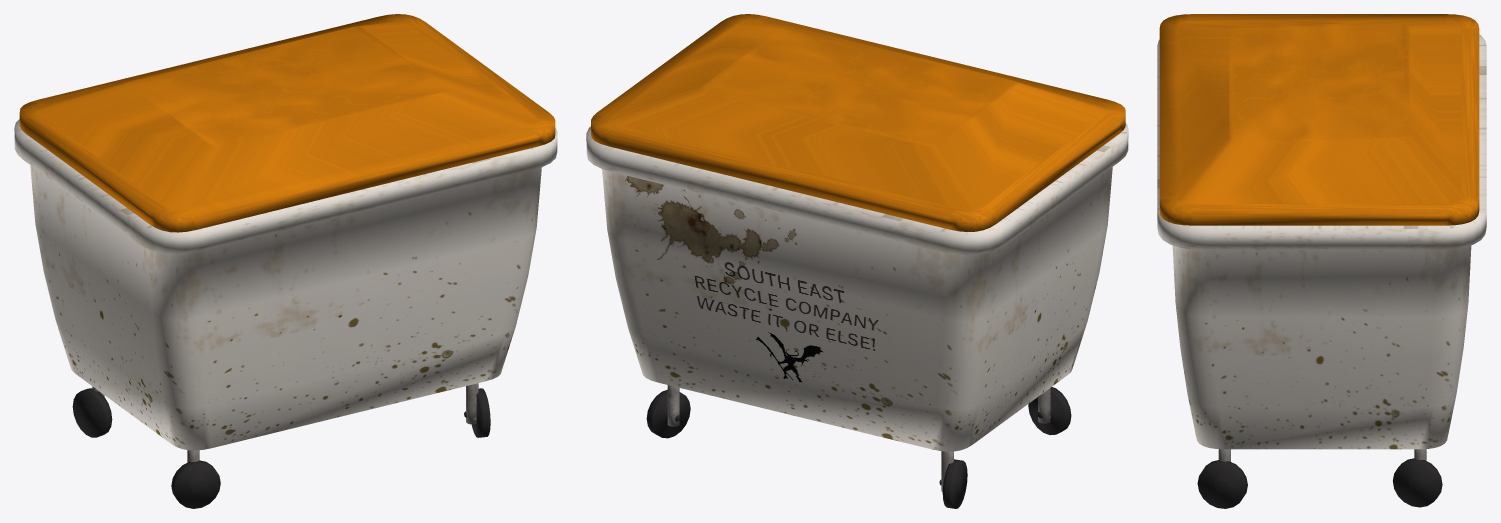
The model's file is wheelieOrangeWhite.obj.
3 renders of one model, left to right at view 1: azimuth 30°, elevation 25°; view 2: azimuth 150°, elevation 25°; view 3: azimuth 270°, elevation 25°, orthographic.
Visible parts, largest first — view 1: Box0011, binLid, wheels, axels; view 2: binLid, Box0012, Box0011, wheels, axels; view 3: binLid, Box0011, wheels.
Boxes of the visible parts, bbox=[...] form: Box0011: bbox=[14, 119, 557, 450]; binLid: bbox=[19, 14, 555, 232]; wheels: bbox=[72, 388, 490, 508]; axels: bbox=[92, 383, 478, 462]; binLid: bbox=[591, 14, 1125, 231]; Box0012: bbox=[620, 174, 946, 449]; Box0011: bbox=[586, 123, 1128, 451]; wheels: bbox=[646, 387, 1071, 508]; axels: bbox=[667, 385, 1050, 492]; binLid: bbox=[1159, 14, 1479, 225]; Box0011: bbox=[1157, 34, 1486, 449]; wheels: bbox=[1197, 458, 1442, 508].
Bounding box in the file's own units: 84.46 × 68.12 × 57.71.
Materials: 6 (6 with a texture image).
